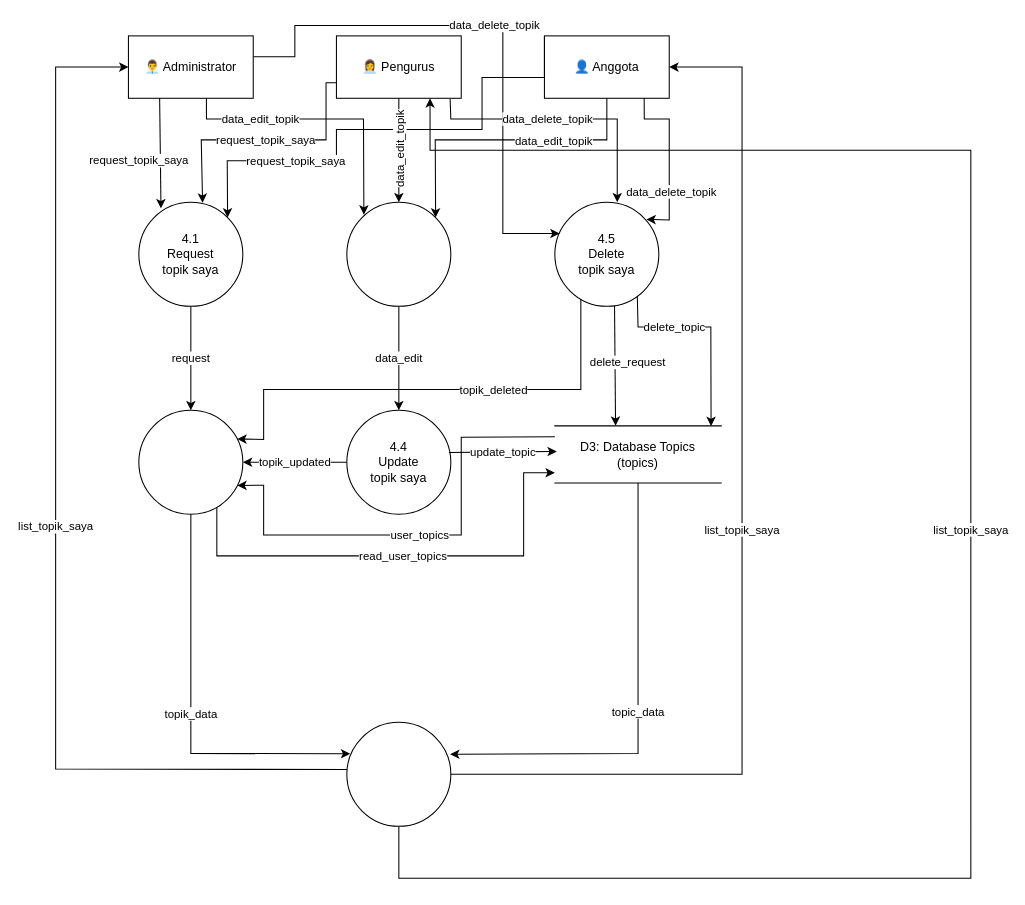
The diagram is 1025 pixels wide and 905 high, and some of its shapes have lost their labels. Here are the shapes that lost their labels. From the top down, the centre of each, then its label:
the point at 398,253: 4.3 Edit topik saya
the point at 190,461: 4.2 Query topik user
the point at 398,773: 4.6 Tampilkan daftar topik saya
